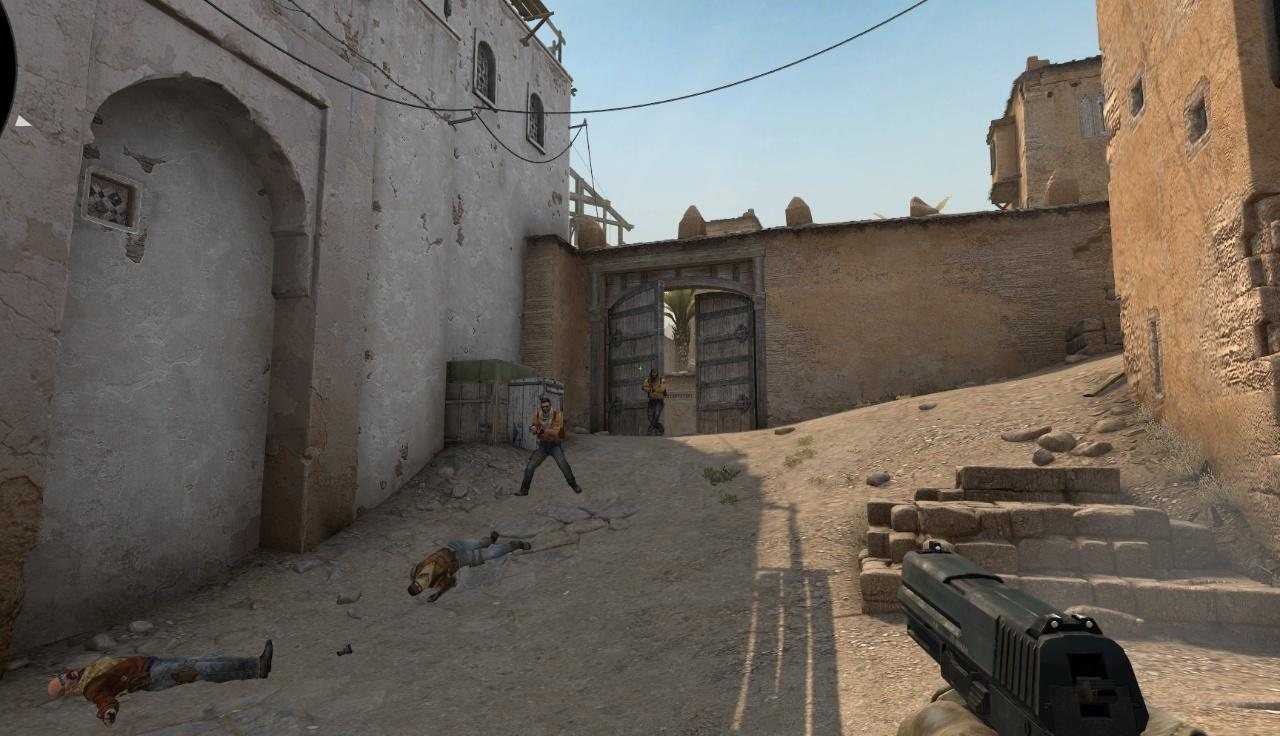pistol: (901, 544, 1150, 736)
tt: (520, 399, 579, 494), (643, 370, 667, 437)
tthead: (540, 398, 551, 414), (650, 370, 659, 382)
